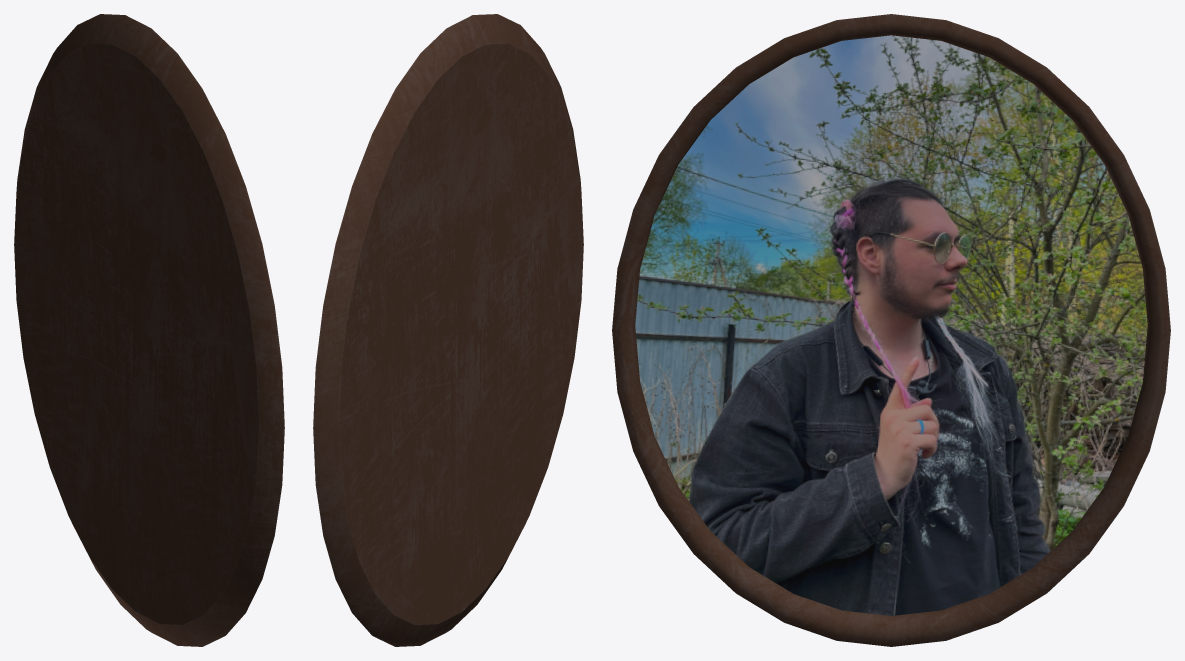
The model's file is PictureUnity.fbx.
The picture shows the model from 3 angles, left to right: view 1: azimuth 30°, elevation 25°; view 2: azimuth 150°, elevation 25°; view 3: azimuth 270°, elevation 25°; orthographic projection. The views are drawn at different scales.
Parts seen in each view (by area): view 1: Окружность.011; view 2: Окружность.011; view 3: Окружность.011.
Part boxes in pixels (box(x1,y1,x2,y2)): Окружность.011: box(14, 14, 284, 646); Окружность.011: box(313, 14, 583, 646); Окружность.011: box(612, 14, 1170, 646).
Bounding box in the file's own units: 8.56 × 270 × 216.
